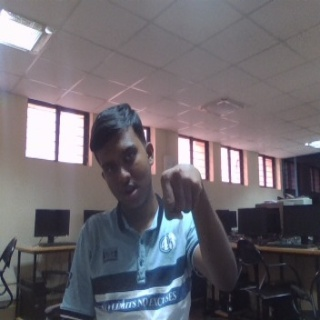Face: (86, 102, 156, 208)
Yes: (159, 160, 208, 225)
